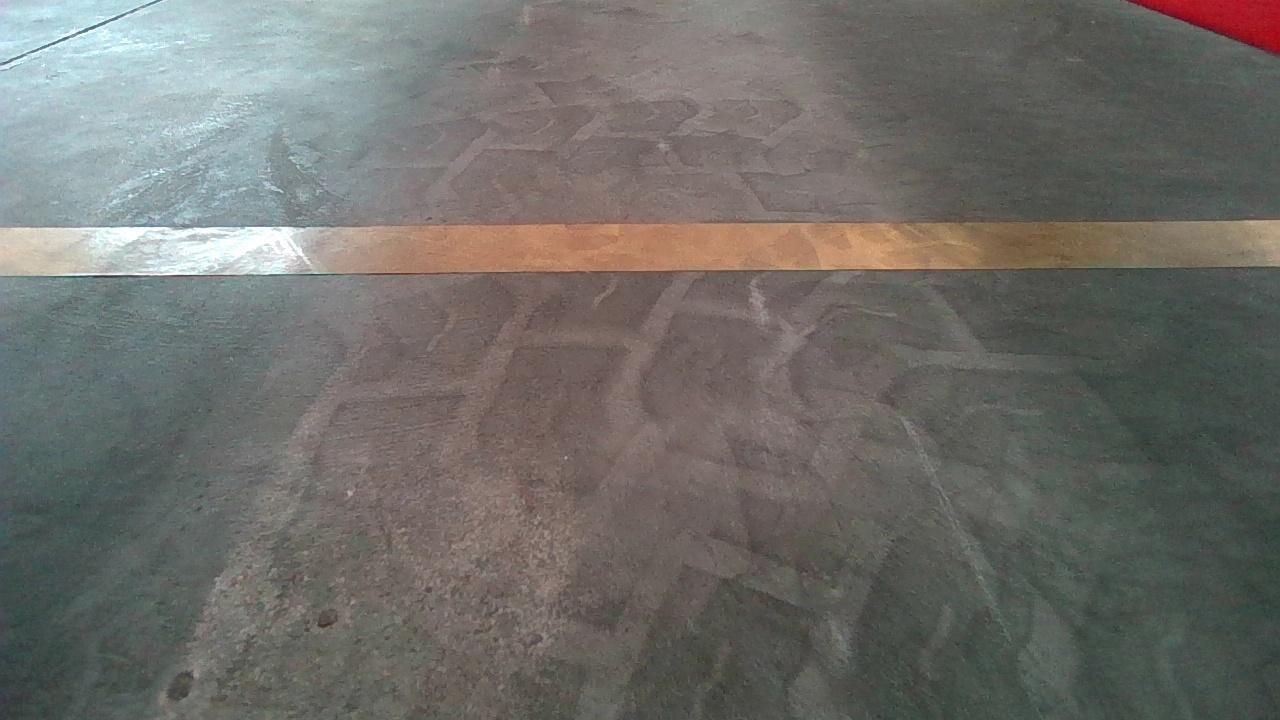yellow_line: (14, 211, 1280, 274)
